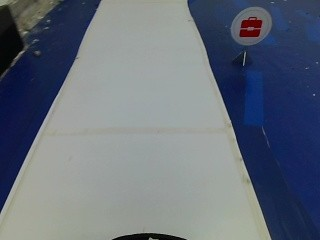company: (230, 4, 269, 45)
